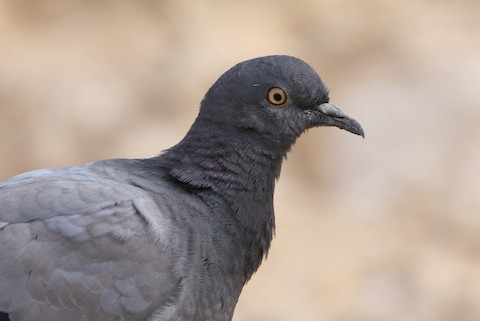pigeon: (7, 46, 372, 313)
